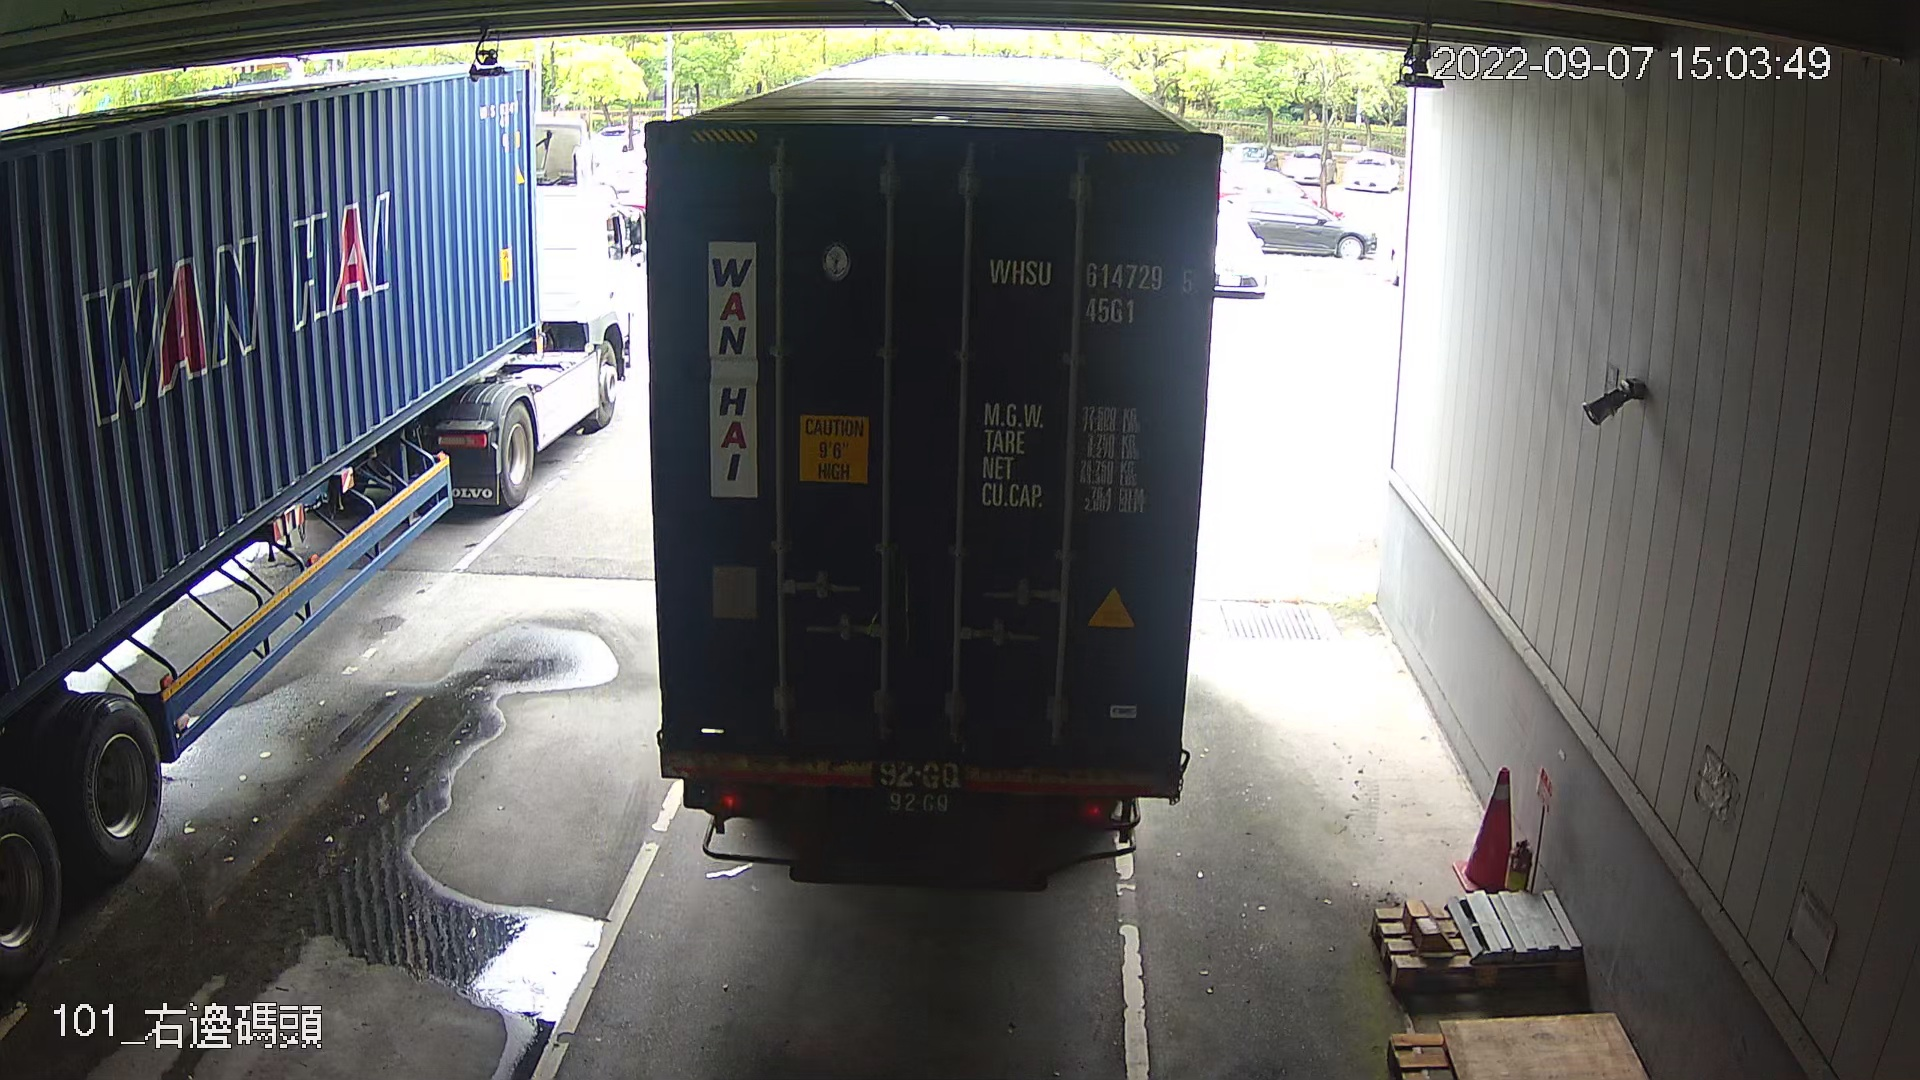container: (978, 244, 1201, 330)
